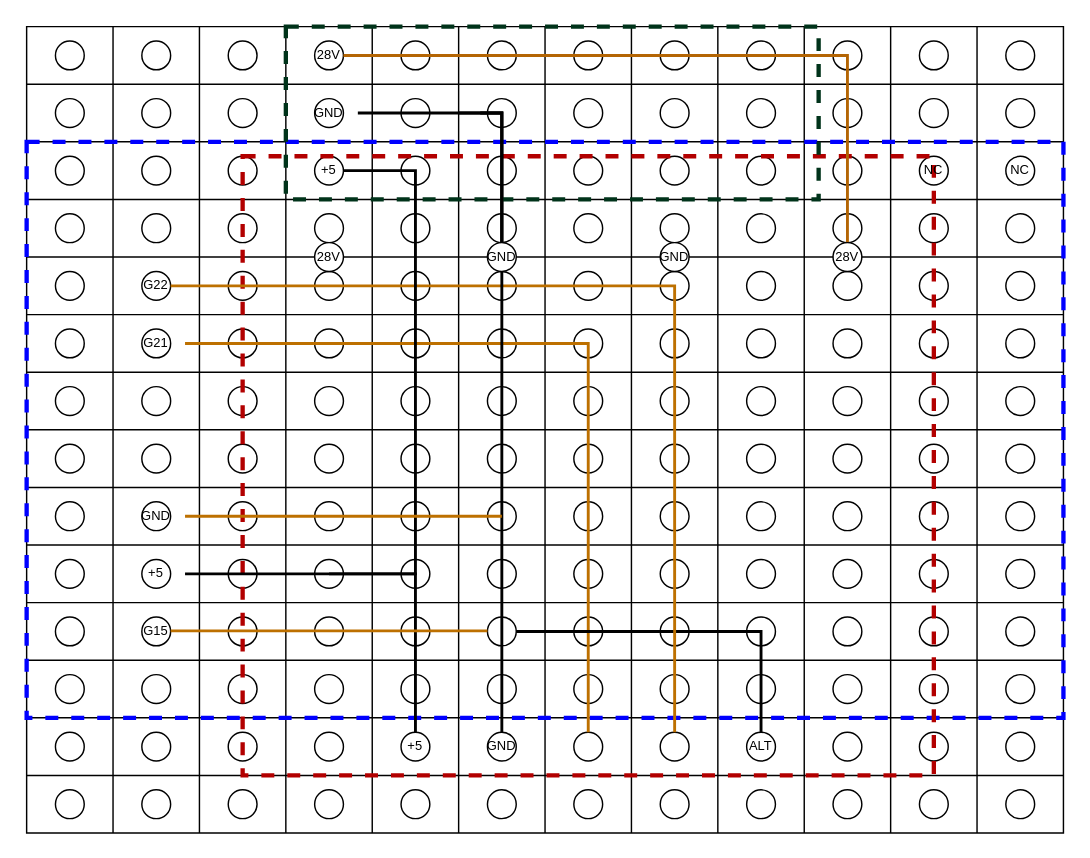
This 1090x858 diagram has some shape labels left out. The box of each missing label's shape, as (x1, y1, x2, y2) in pixels:
SCL: (659, 731, 689, 761)
SDA: (572, 731, 603, 761)
